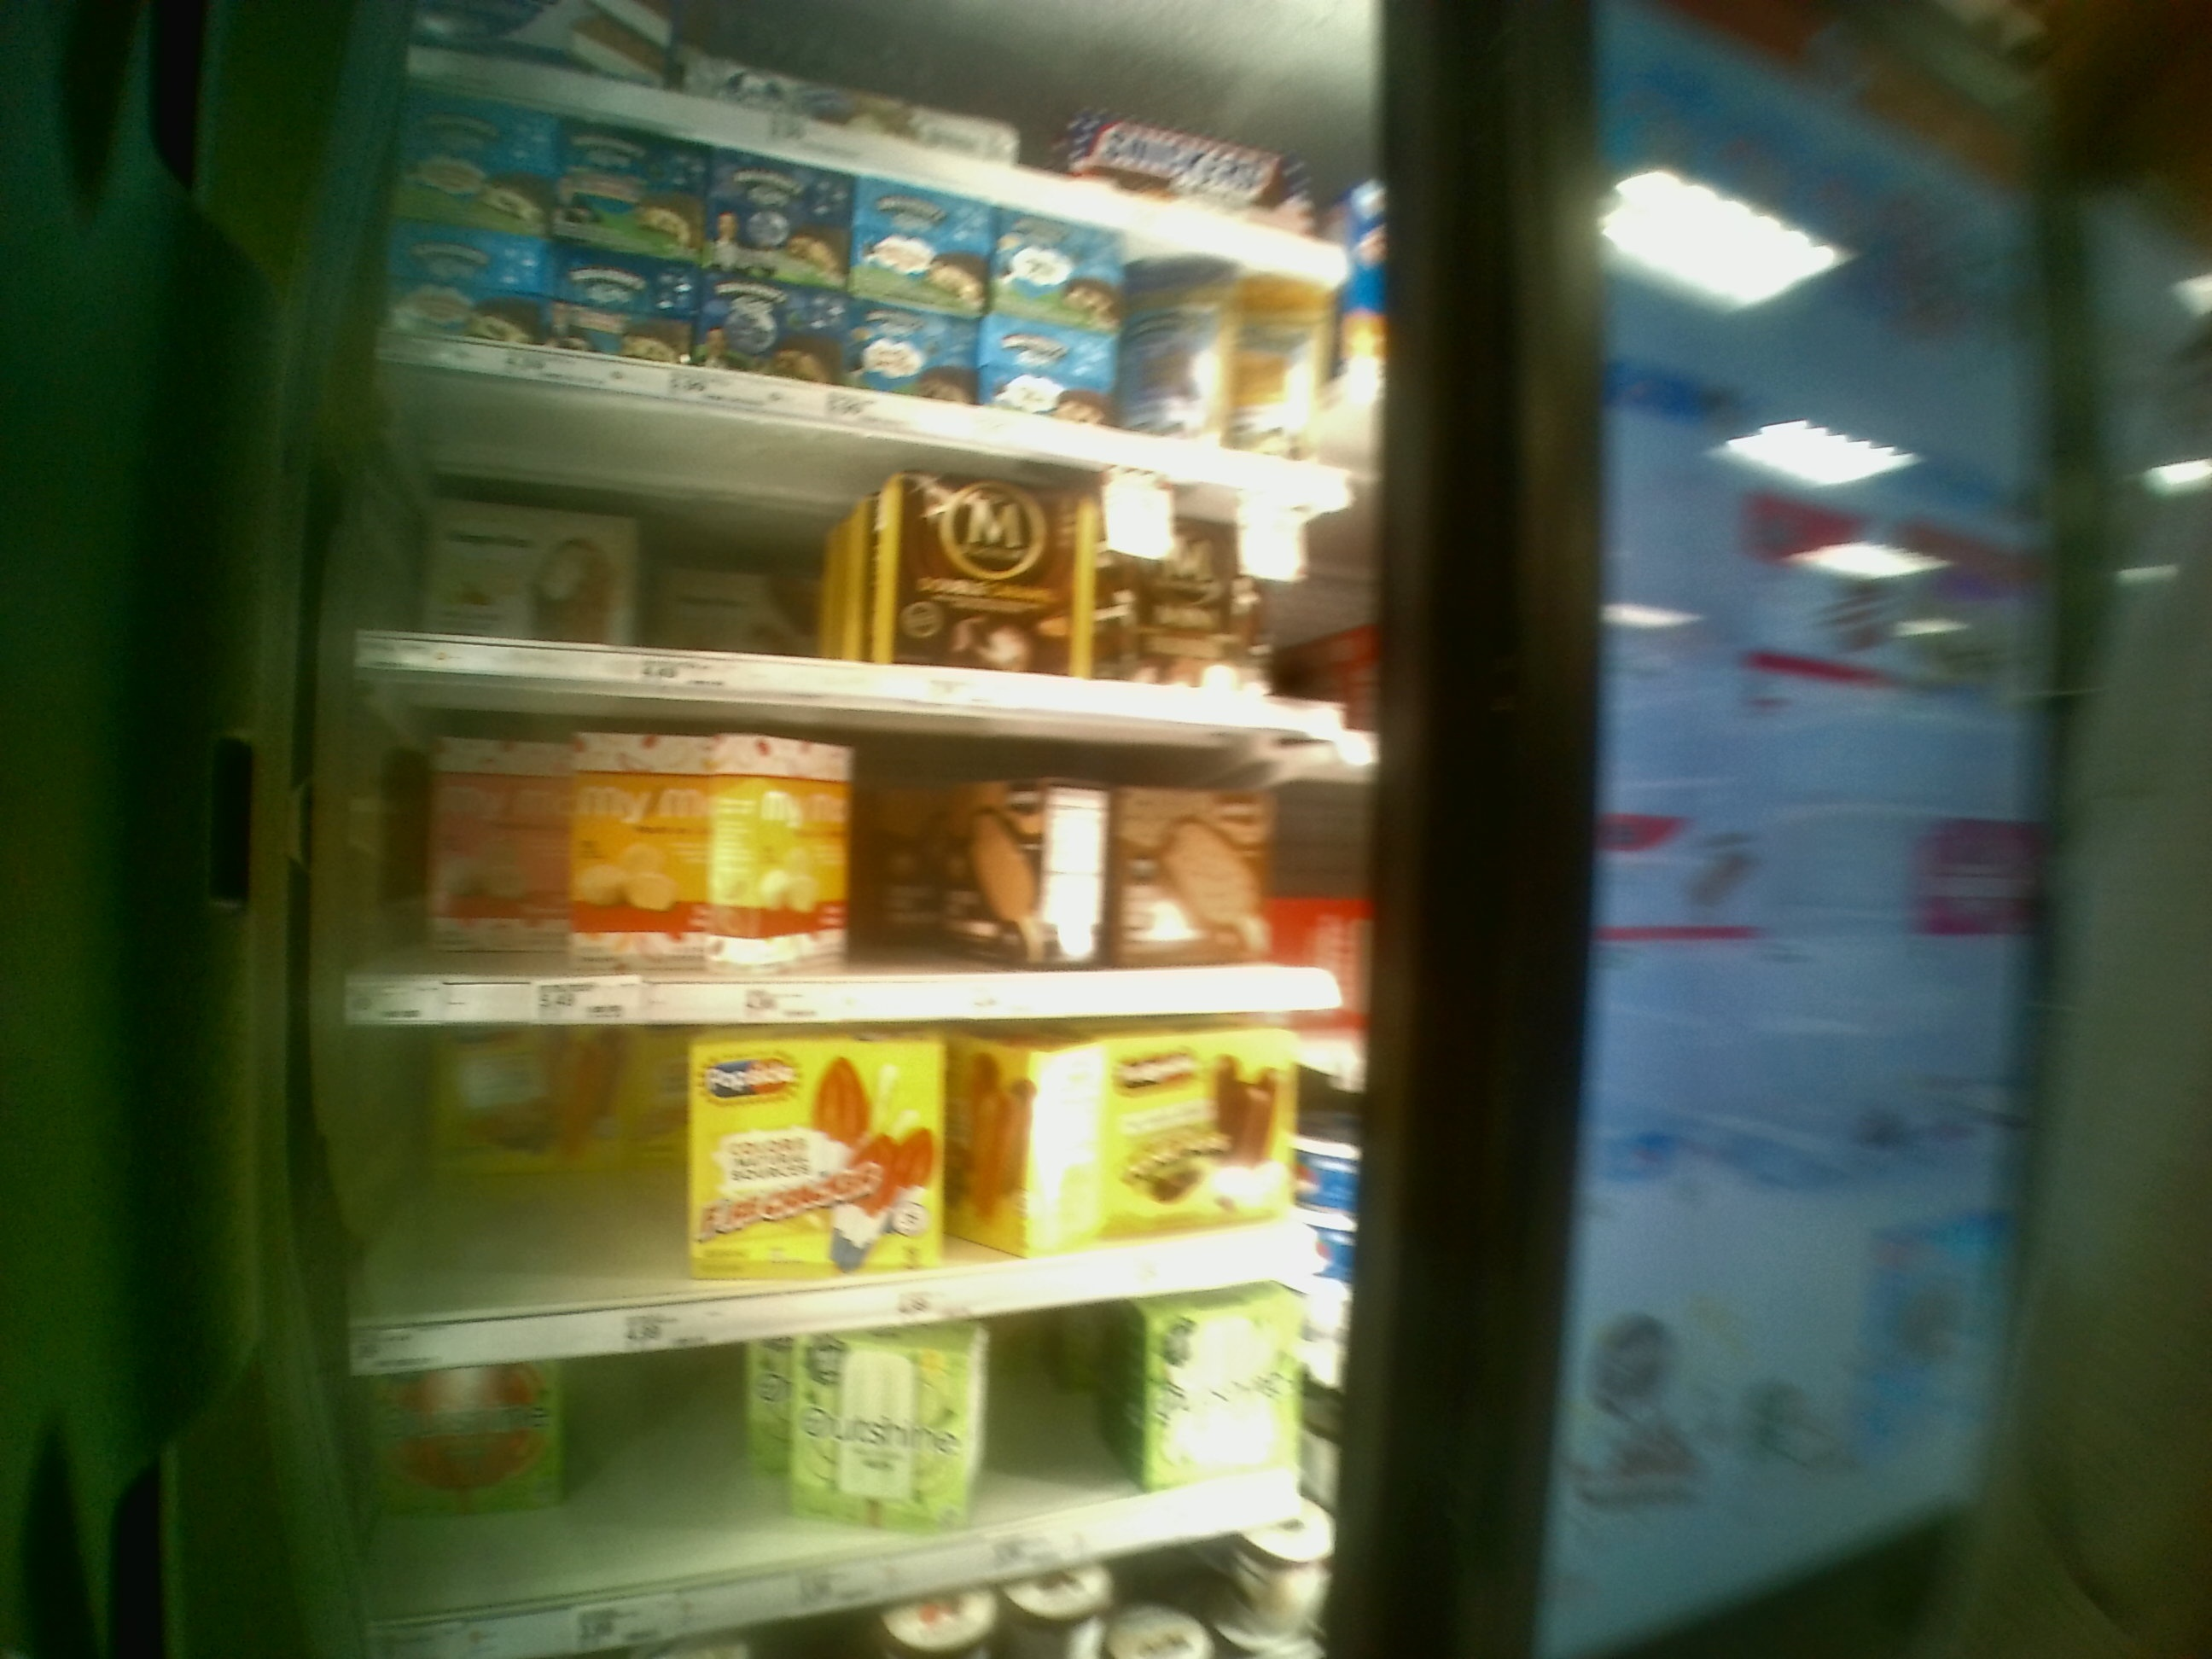shelf: (347, 362, 1359, 721), (350, 1018, 1359, 1371), (354, 667, 1348, 1019)
